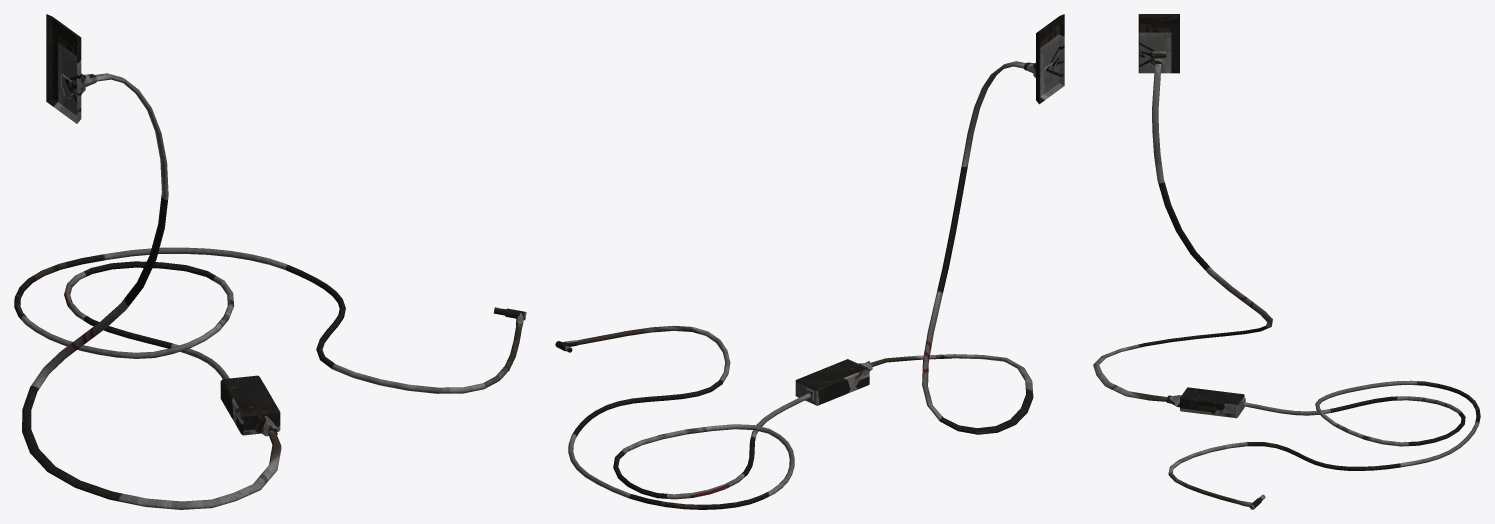
The model's file is PC-Cable.fbx.
3 views of the same model, side by side, from view 1: azimuth 30°, elevation 25°; view 2: azimuth 150°, elevation 25°; view 3: azimuth 270°, elevation 25° (orthographic). The views are drawn at different scales.
Parts seen in each view (by area): view 1: Pc_cableMesh, Conection; view 2: Pc_cableMesh, Conection; view 3: Pc_cableMesh, Conection.
Boxes of the visible parts, x1=… form: Pc_cableMesh: x1=14, y1=73, x2=526, y2=509; Conection: x1=46, y1=14, x2=81, y2=123; Pc_cableMesh: x1=555, y1=61, x2=1053, y2=509; Conection: x1=1036, y1=14, x2=1064, y2=104; Pc_cableMesh: x1=1093, y1=51, x2=1480, y2=509; Conection: x1=1138, y1=14, x2=1179, y2=73.
Bounding box in the file's own units: 2.83 × 2.41 × 2.63.
